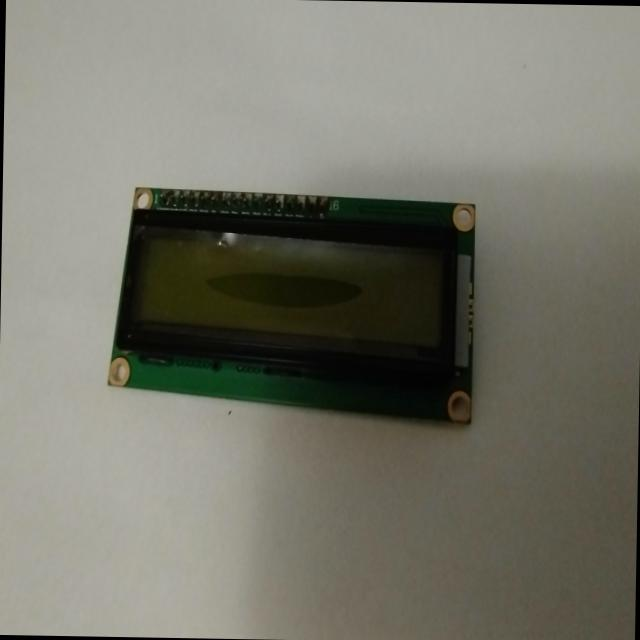lcd: (105, 182, 479, 426)
